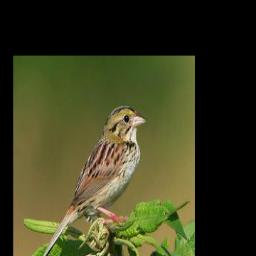Sparrow: (38, 103, 148, 256)
